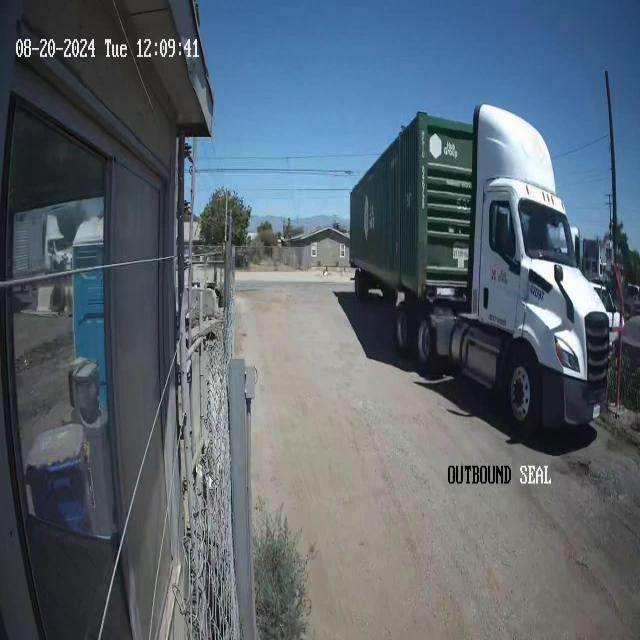TRUCK_IN: (348, 102, 610, 436)
